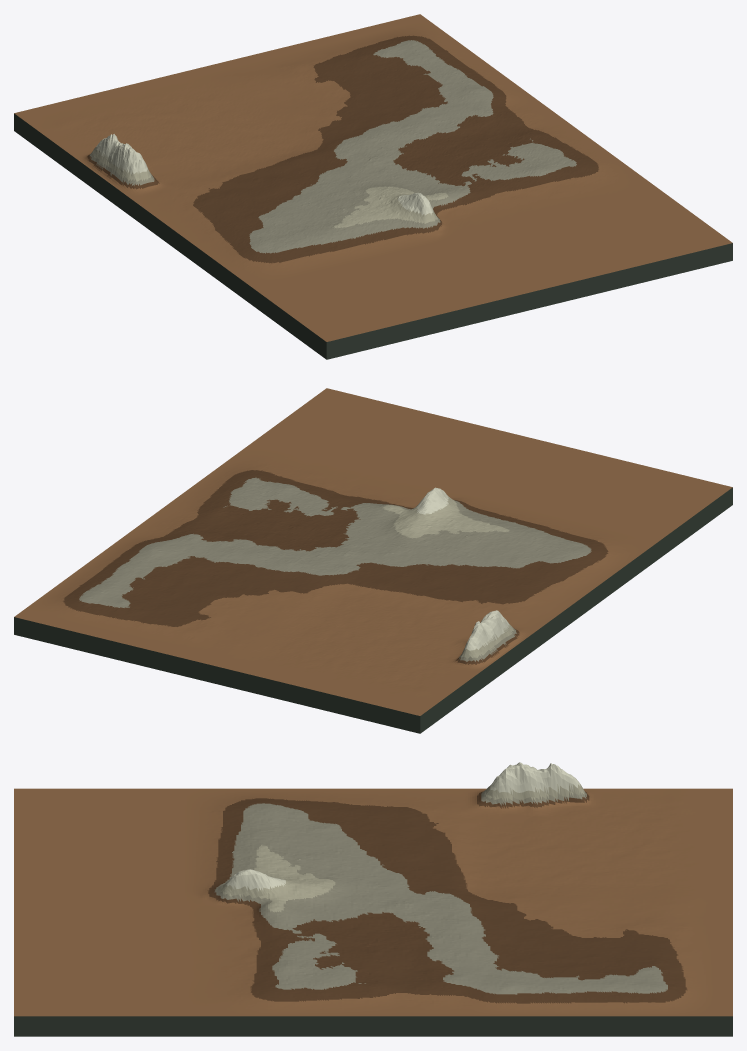
Rendered from adtg_d50.dae.
3 renders of one model, top to bottom at view 1: azimuth 30°, elevation 25°; view 2: azimuth 150°, elevation 25°; view 3: azimuth 270°, elevation 25°, orthographic. The views are drawn at different scales.
Parts seen in each view (by area): view 1: terrain_node; view 2: terrain_node; view 3: terrain_node.
Part boxes in pixels (x1,y1,x2,y2): terrain_node: [14, 14, 732, 359]; terrain_node: [14, 388, 732, 733]; terrain_node: [14, 762, 732, 1036].
Size of the model in its own units: 6 by 8 by 0.7053.
